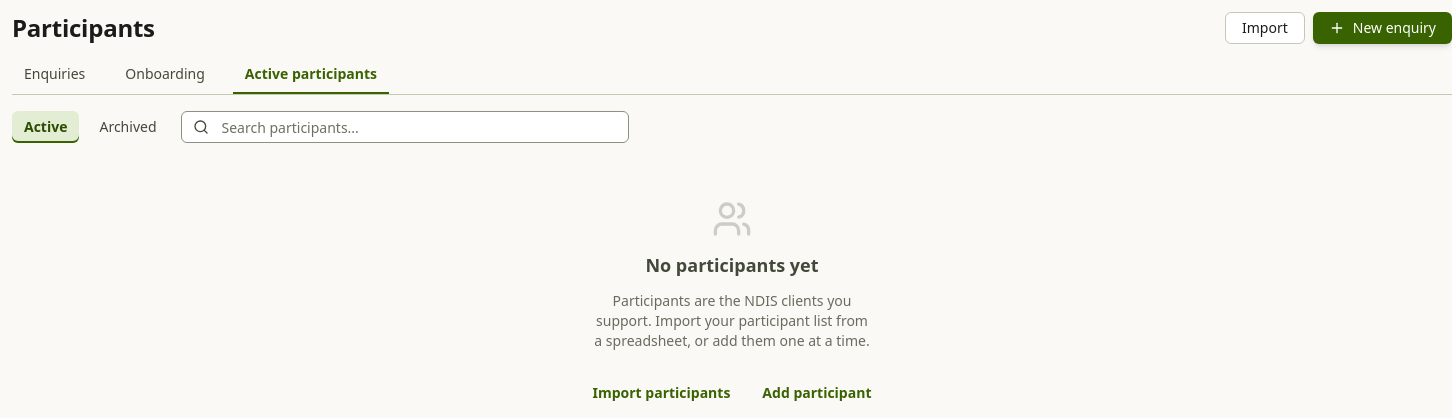
Test case: ParticipantsHubPage — single PageHeader + tabbed lifecycle › shows the Active participants panel by default and switches panels when a tab is clicked
The width and height of the screenshot is (1452, 418).
Expected: the panel shows "No participants yet", [645,253,819,277]
Click the tab "Enquiries" at (55, 75), box [12,56,97,94]
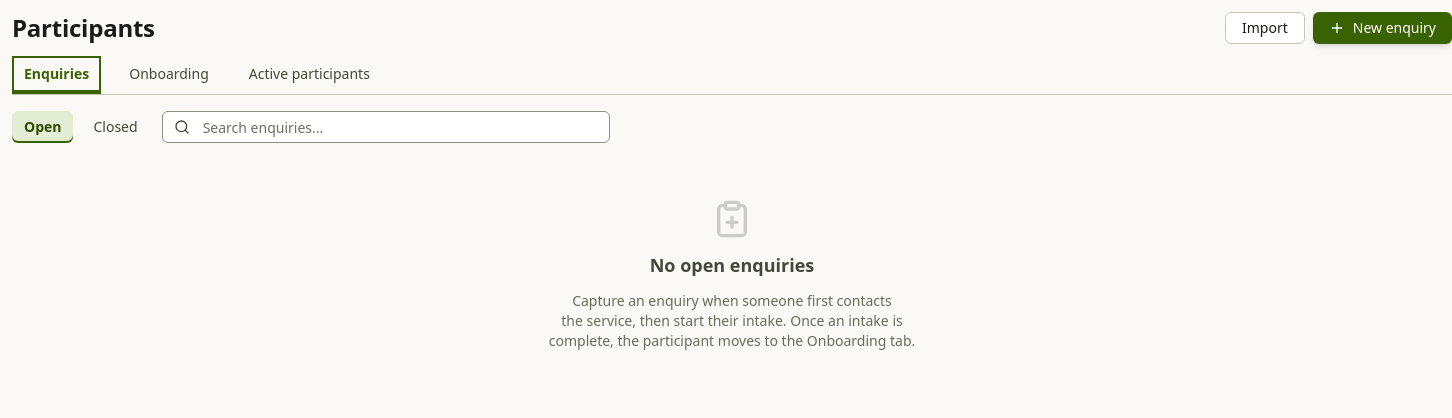
Expected: the panel shows "enquir", [650,253,814,277]
